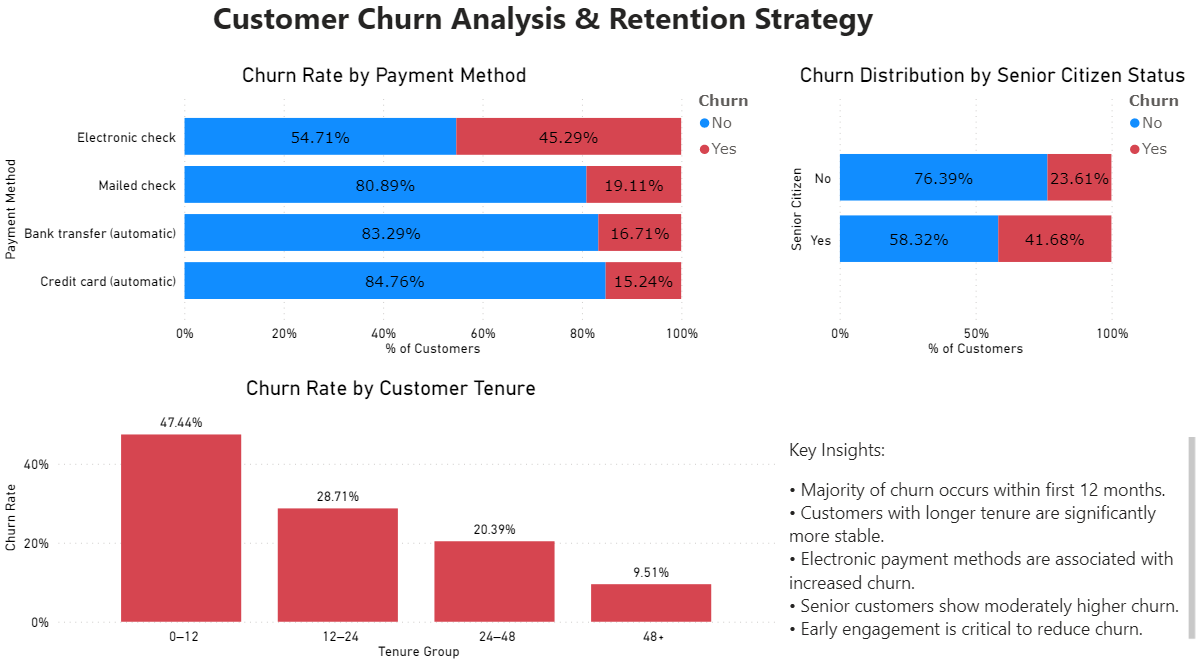

What the dashboard file says about the page in this screenshot:
{"tool":"powerbi","page":{"name":"Customer Behaviour","canvas":[1280,720],"ordinal":1},"visuals":[{"type":"textbox","box":[836.5,469.4,443.8,250.6],"z":0},{"type":"textbox","box":[111.9,0,936.8,58.8],"z":1000},{"type":"hundredPercentStackedBarChart","title":"Churn Rate by Payment Method","fields":{"Category":["Telco.PaymentMethod"],"Series":["Telco.Churn"],"Y":["CountNonNull(Telco.PaymentMethod)"]},"box":[0,76.6,822.2,316.1],"z":2000},{"type":"clusteredColumnChart","title":"Churn Rate by Customer Tenure","fields":{"Category":["Telco.Tenure Group"],"Y":["Telco.Churn Rate"]},"box":[0,410.3,836.5,304.9],"z":3000},{"type":"hundredPercentStackedBarChart","title":"Churn Distribution by Senior Citizen Status","fields":{"Category":["Telco.SeniorCitizen"],"Y":["CountNonNull(Telco.SeniorCitizen)"],"Series":["Telco.Churn"]},"box":[836.5,76.6,443.8,316.1],"z":3001}]}

Visuals, with their boxes in screenshot pixels (x1, y1, x2, y2), scaled from the page's 1280x720 canvas onto the 1198x667 screenshot:
textbox: <region>783, 435, 1197, 666</region>
textbox: <region>105, 0, 982, 54</region>
"Churn Rate by Payment Method" hundredPercentStackedBarChart: <region>0, 71, 770, 364</region>
"Churn Rate by Customer Tenure" clusteredColumnChart: <region>0, 380, 783, 663</region>
"Churn Distribution by Senior Citizen Status" hundredPercentStackedBarChart: <region>783, 71, 1197, 364</region>
